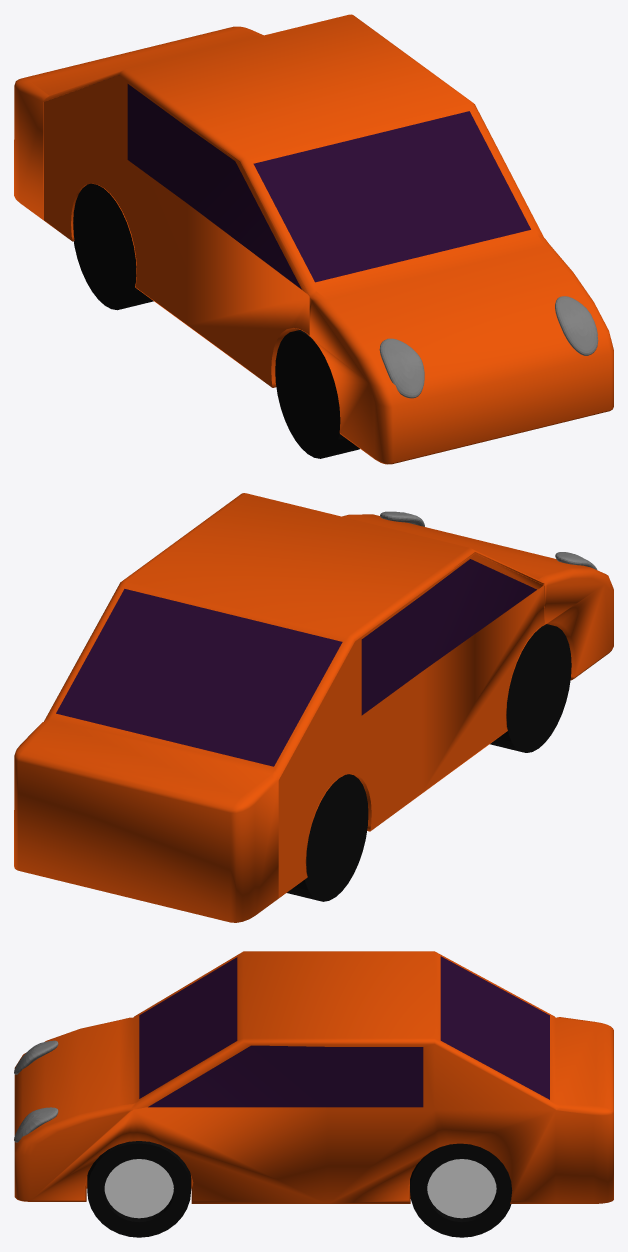
File: car.gltf
The picture shows the model from 3 angles, top to bottom: view 1: azimuth 30°, elevation 25°; view 2: azimuth 150°, elevation 25°; view 3: azimuth 270°, elevation 25°; orthographic projection. The views are drawn at different scales.
Parts seen in each view (by area): view 1: car; view 2: car; view 3: car.
Part boxes in pixels (<box>): car: <box>14,14,613,464</box>; car: <box>14,493,613,922</box>; car: <box>14,951,613,1237</box>.
Size of the model in its own units: 8.42 by 8.49 by 23.43.
